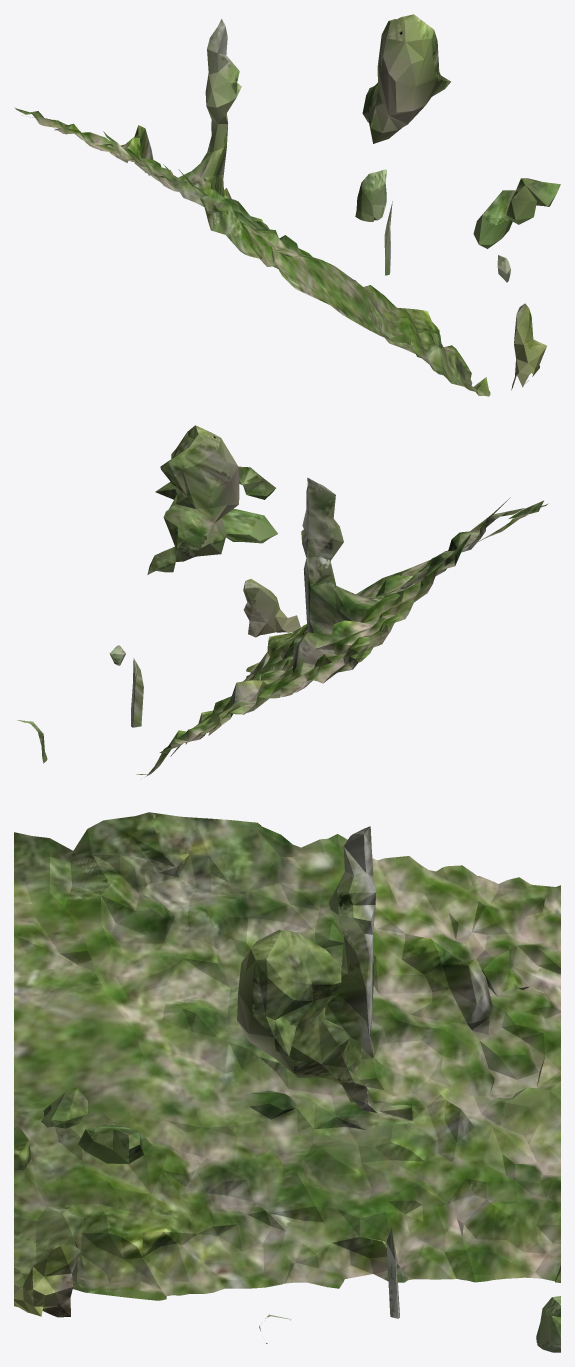
3 renders of one model, top to bottom at view 1: azimuth 30°, elevation 25°; view 2: azimuth 150°, elevation 25°; view 3: azimuth 270°, elevation 25°, orthographic. The views are drawn at different scales.
Bounding box in the file's own units: 26.11 × 20.17 × 26.11.
3 materials, 3 textured.
